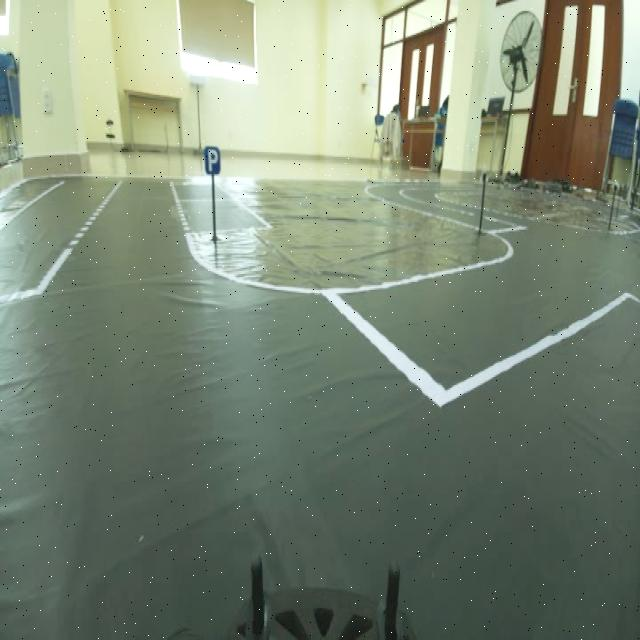parking: (203, 139, 225, 183)
